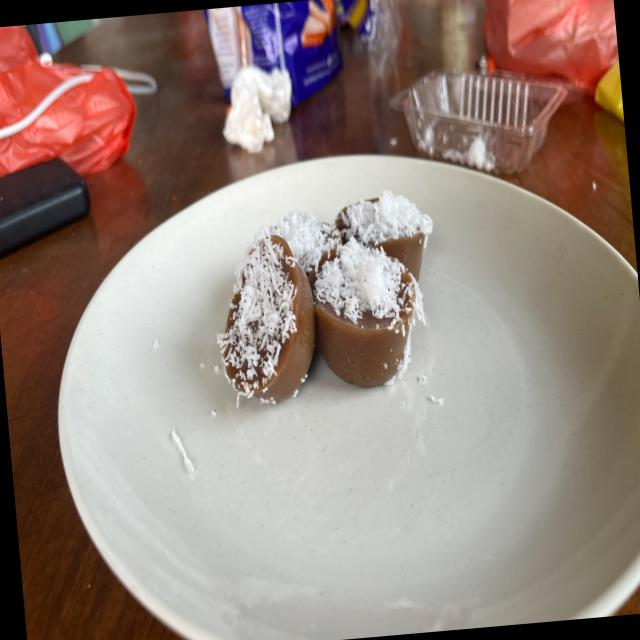Kuih lompang: (217, 226, 315, 403), (314, 237, 418, 388), (273, 210, 341, 289), (376, 233, 424, 280)
